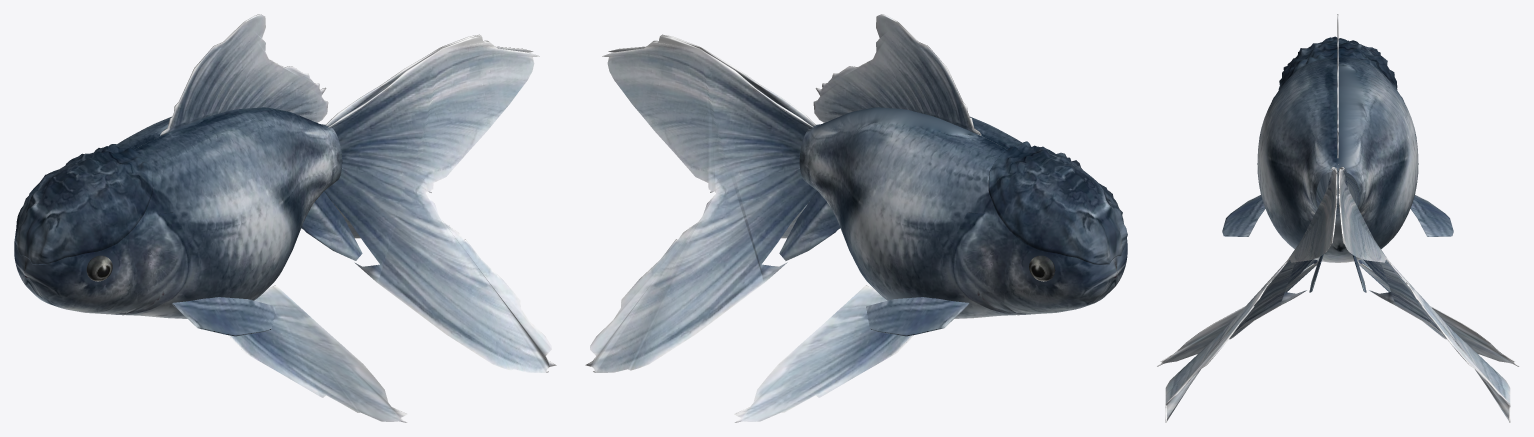
Rendered from seibungyo.glb.
3 views of the same model, side by side, from view 1: azimuth 30°, elevation 25°; view 2: azimuth 150°, elevation 25°; view 3: azimuth 270°, elevation 25° (orthographic). The views are drawn at different scales.
Visible parts, largest first — view 1: caudal_near, body, wen, dorsal, pelvic_near, pectoral_near, gill_near, anal_near, caudal_far, eye_near; view 2: caudal_far, body, wen, dorsal, pelvic_far, pectoral_far, gill_far, anal_far, caudal_near, eye_far; view 3: body, caudal_near, caudal_far, wen, pelvic_near, pelvic_far, pectoral_near, pectoral_far.
Part boxes in pixels (x1,y1,x2,y2): caudal_near: [325, 35, 556, 372]; body: [14, 107, 342, 318]; wen: [15, 144, 153, 264]; dorsal: [160, 14, 328, 135]; pelvic_near: [227, 285, 407, 422]; pectoral_near: [172, 297, 275, 336]; gill_near: [111, 212, 189, 315]; anal_near: [301, 191, 362, 260]; caudal_far: [324, 34, 533, 238]; eye_near: [86, 255, 112, 281]; caudal_far: [585, 36, 816, 372]; body: [799, 107, 1127, 318]; wen: [988, 141, 1127, 264]; dorsal: [813, 14, 981, 135]; pelvic_far: [734, 285, 913, 422]; pectoral_far: [866, 297, 969, 336]; gill_far: [952, 212, 1030, 315]; anal_far: [779, 191, 839, 260]; caudal_near: [608, 34, 817, 238]; eye_far: [1029, 255, 1055, 281]; body: [1257, 58, 1418, 262]; caudal_near: [1165, 167, 1337, 422]; caudal_far: [1338, 167, 1510, 422]; wen: [1278, 36, 1397, 89]; pelvic_near: [1157, 259, 1318, 366]; pelvic_far: [1357, 259, 1518, 366]; pectoral_near: [1222, 195, 1265, 236]; pectoral_far: [1410, 195, 1453, 236].
Size of the model in its own units: 0.15 by 0.0985 by 0.0989.
Materials: 1 (1 with a texture image).
